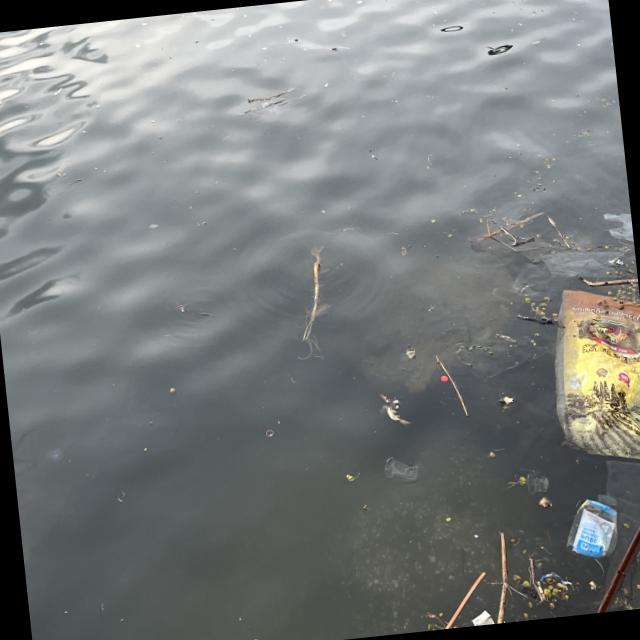foam: (472, 610, 496, 626)
